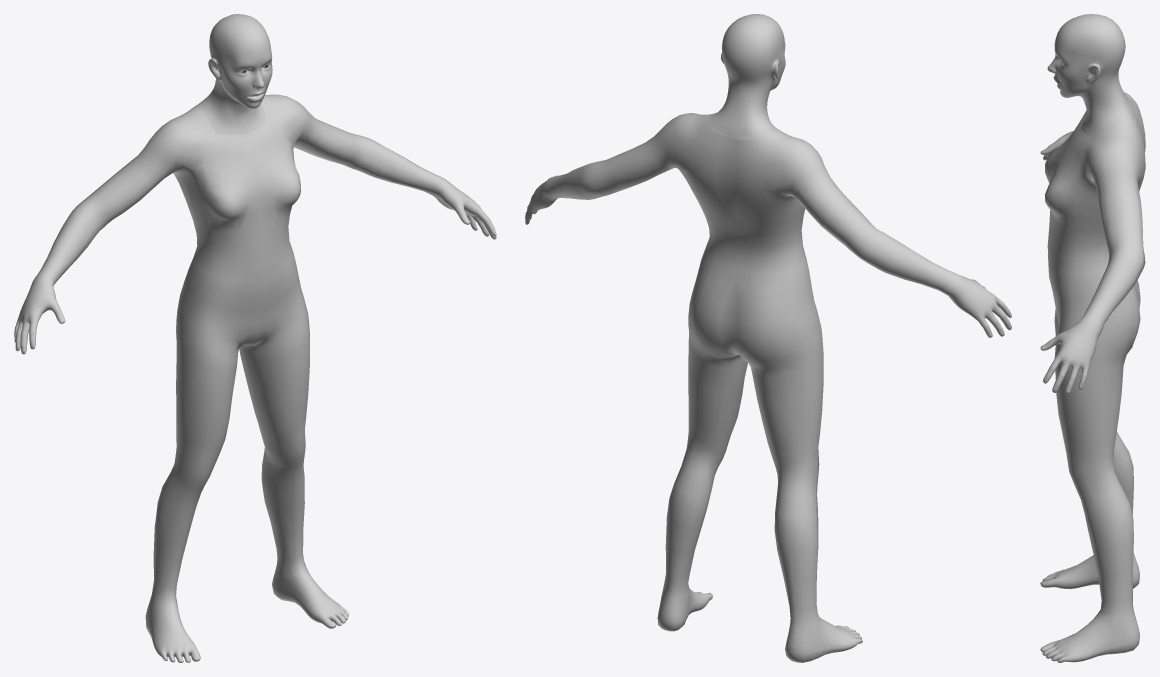
Rendered from MESH_c_f_basenude_static.fbx.
3 renders of one model, left to right at view 1: azimuth 30°, elevation 25°; view 2: azimuth 150°, elevation 25°; view 3: azimuth 270°, elevation 25°, orthographic. The views are drawn at different scales.
Parts seen in each view (by area): view 1: Female_Nude_Body.001, F_Head; view 2: Female_Nude_Body.001, F_Head; view 3: Female_Nude_Body.001, F_Head.
Part boxes in pixels (x1,y1,x2,y2): Female_Nude_Body.001: (14, 94, 496, 662); F_Head: (196, 14, 272, 134); Female_Nude_Body.001: (525, 113, 1011, 662); F_Head: (708, 14, 785, 139); Female_Nude_Body.001: (1040, 92, 1145, 662); F_Head: (1047, 14, 1136, 136).
Size of the model in its own units: 142 by 175 by 27.71.
